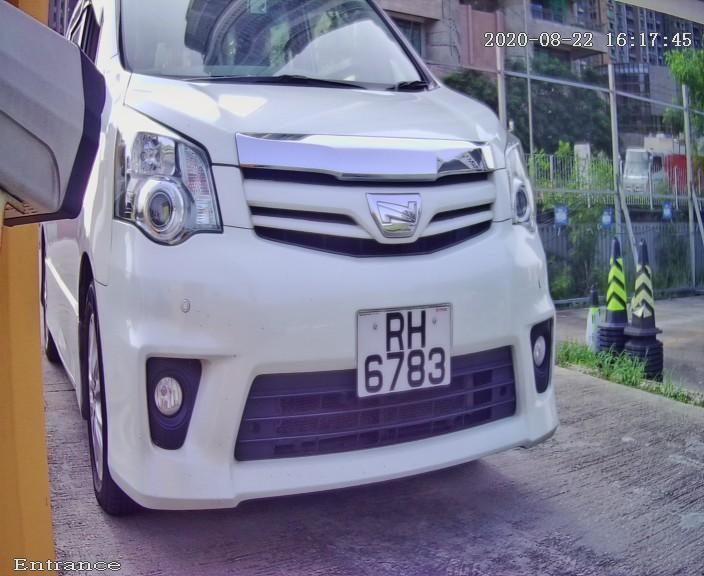Car: (29, 1, 591, 556)
License Plate: (349, 289, 459, 412)
